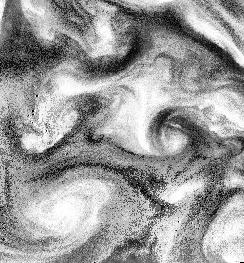CE: (14, 169, 122, 248), (147, 108, 213, 161)
